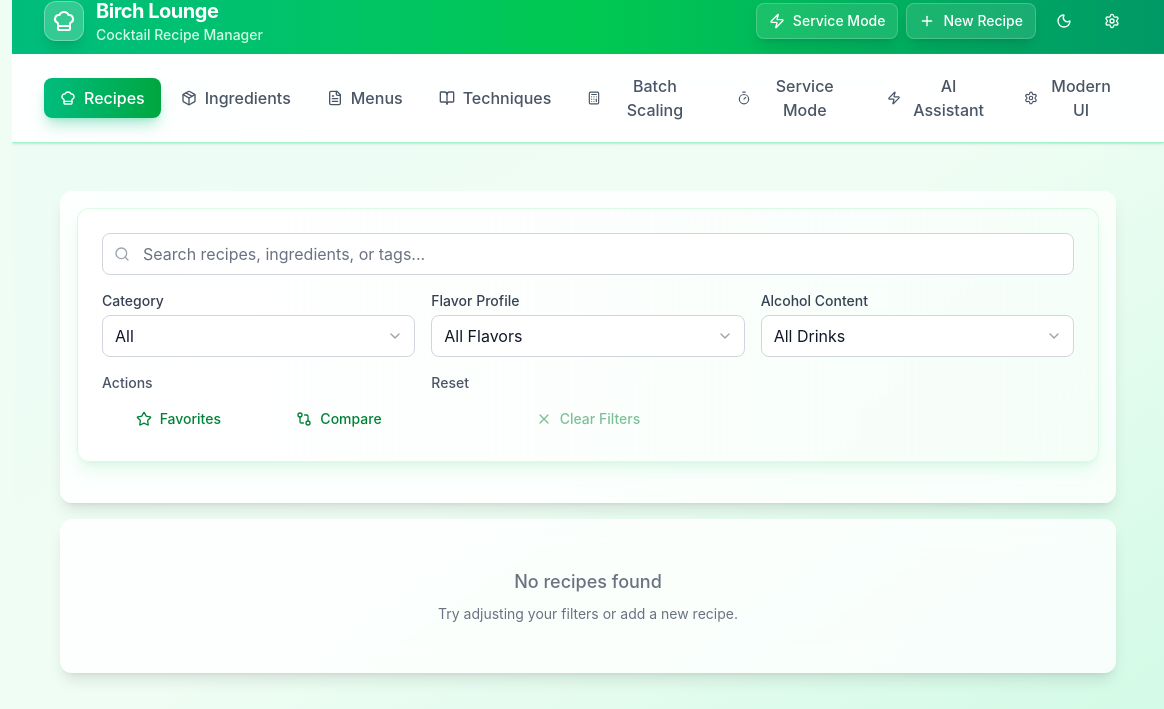
Scenario: MainApp UI interactions › navigates between recipe and management tabs
The image size is (1164, 709).
Click the button "Menus" at (365, 98), box [311, 78, 419, 118]
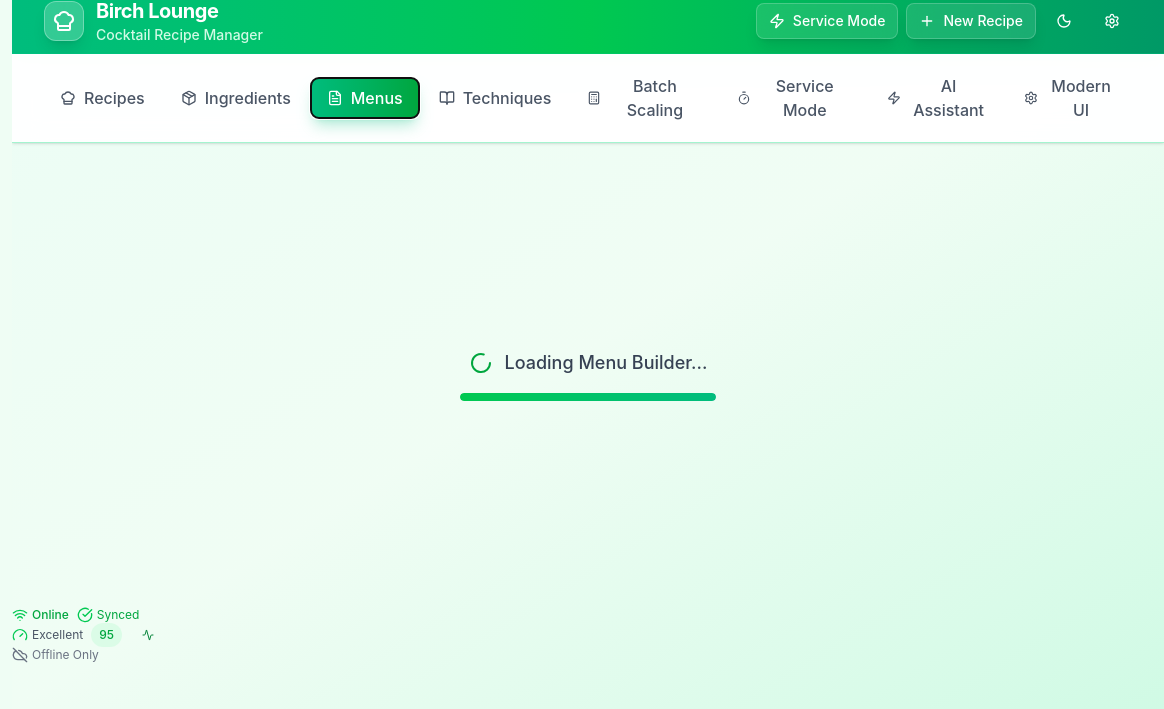
expect the text "Loading Menu Builder..." is shown: met, box [504, 349, 708, 377]
Click the button "Ingredients" at (236, 98), box [165, 78, 307, 118]
(page scrolled)
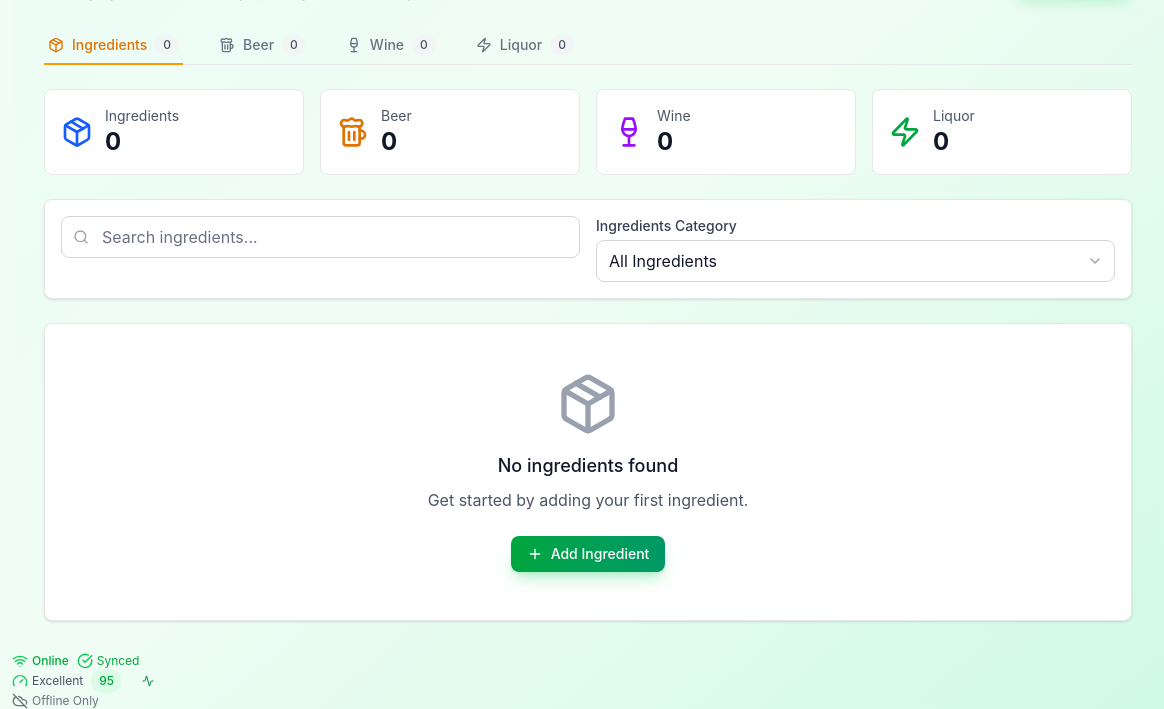
expect the button "Add Ingredient" is shown: met, box [511, 536, 665, 572]
